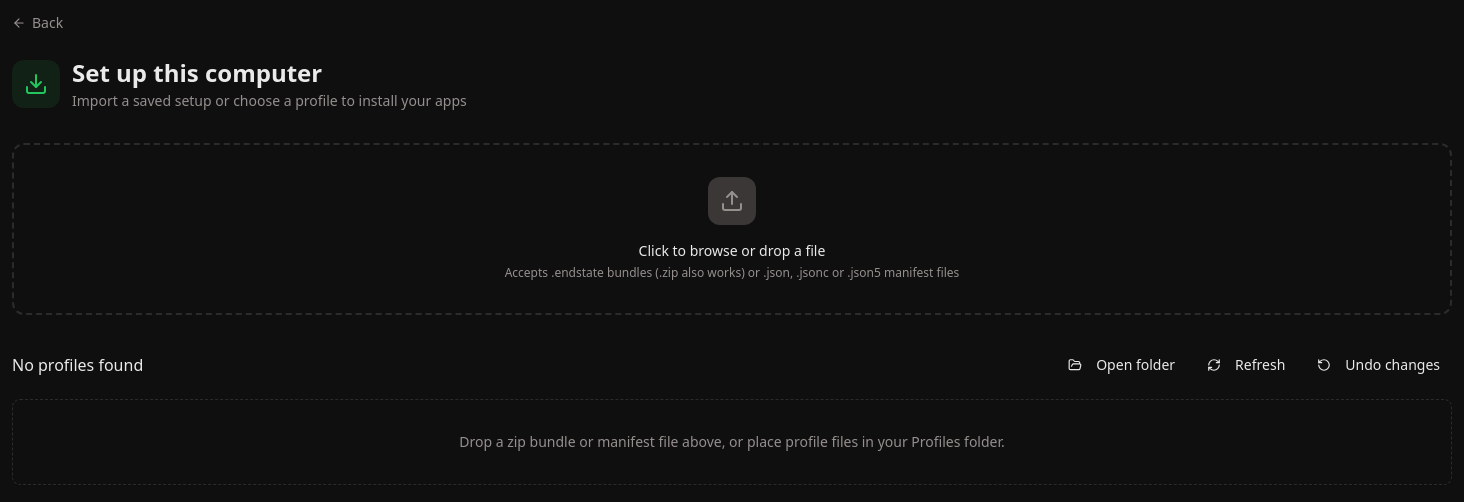
Test case: SetupFlow — Undo settings › shows undo-confirm with file list when dry-run succeeds
Click the button "Undo changes" at (1379, 365), box [1305, 347, 1452, 383]
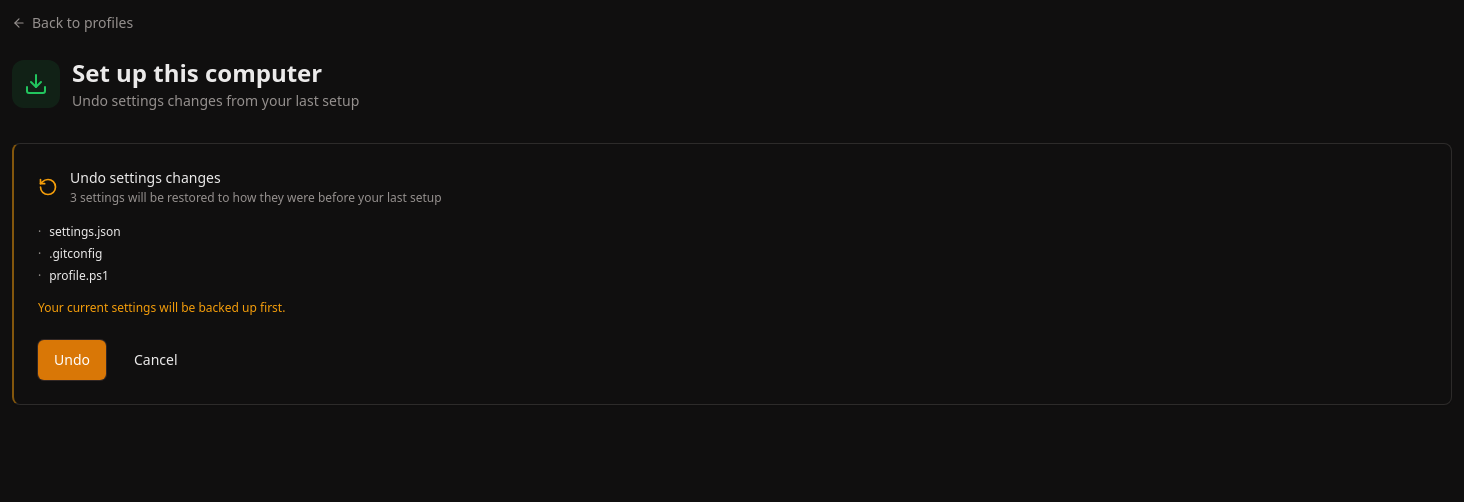
Check: the text "Undo settings changes" is shown, box [70, 168, 221, 187]
Check: the text "3 settings will be restored" is shown, box [70, 190, 442, 206]
Check: the text "settings.json" is shown, box [49, 224, 121, 240]
